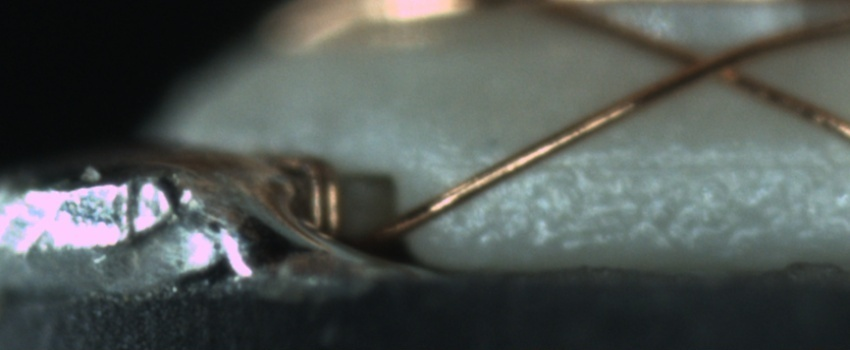CL: (664, 35, 757, 91)
DL: (434, 132, 849, 194)
TE: (254, 147, 349, 240)
